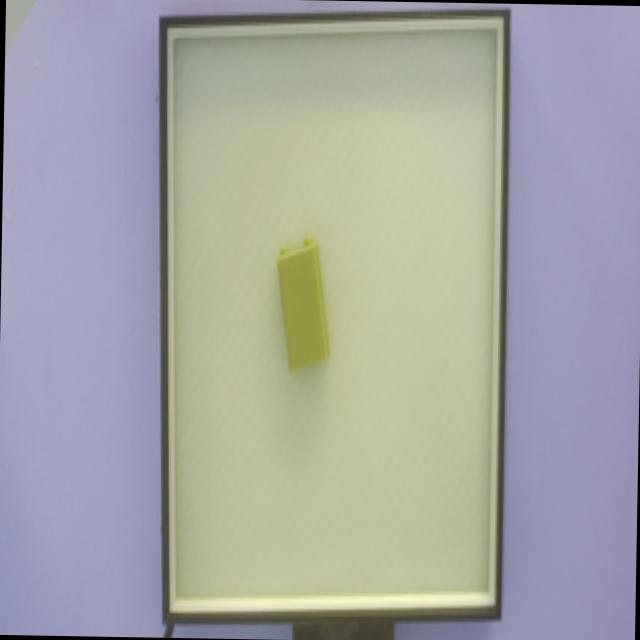bateria: (276, 235, 330, 372)
mesa: (159, 9, 511, 624)
